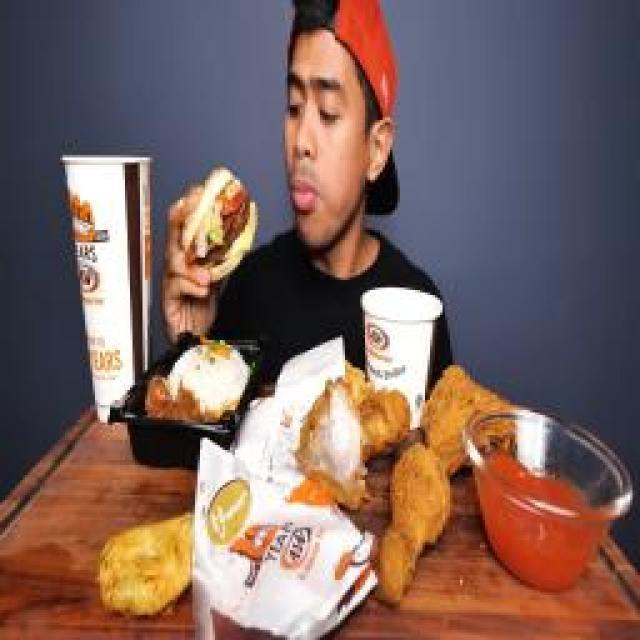AW cola: (55, 130, 173, 420)
black pepper rice bowl: (133, 335, 258, 438)
fried chicken: (295, 365, 530, 588)
mozza burger: (178, 158, 263, 291)
perkedel: (95, 497, 208, 625)
